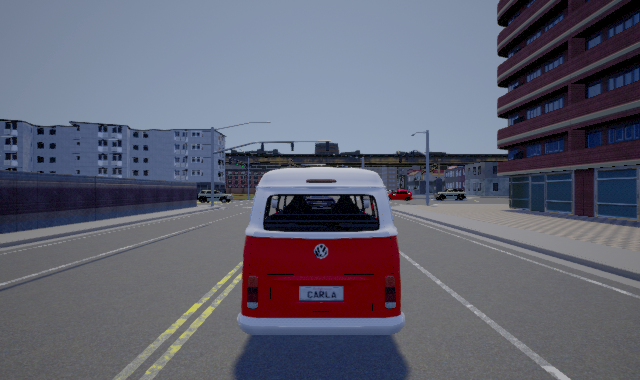vehicle: (237, 163, 404, 335), (195, 186, 235, 207), (385, 188, 413, 204), (434, 188, 466, 201)
